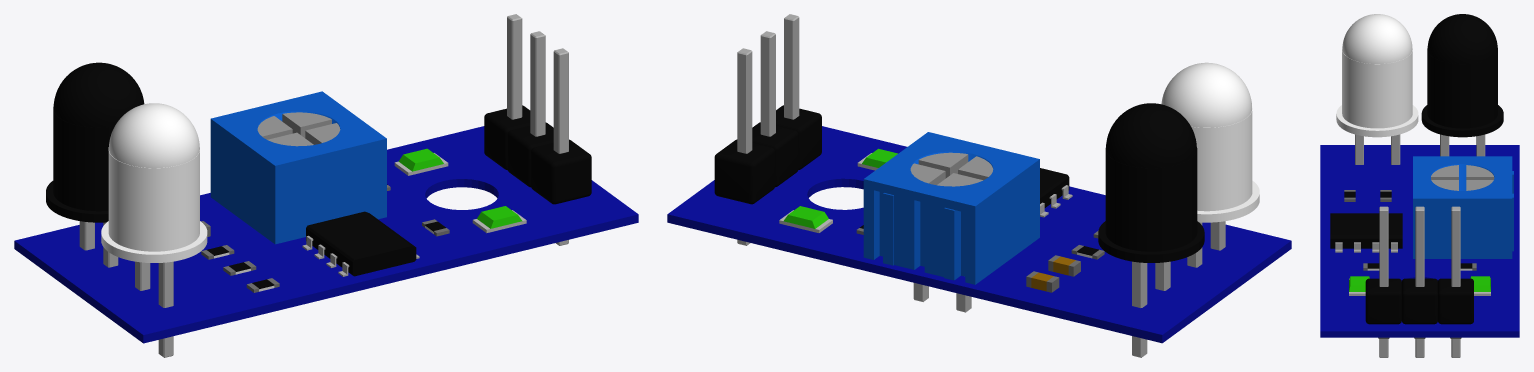
The model's file is ir-barrier-sensor.fbx.
The picture shows the model from 3 angles, left to right: view 1: azimuth 30°, elevation 25°; view 2: azimuth 150°, elevation 25°; view 3: azimuth 270°, elevation 25°; orthographic projection. The views are drawn at different scales.
Visible parts, largest first — view 1: PCB Board, Trimpot Base, LED Body.001, Plastic Wrapper, Pin, LED Body, LED Head.001, IC Base, LED Head, Wiper, LED Tail.001, Cube.002 (+4 smaller); view 2: PCB Board, Trimpot Base, LED Body, Plastic Wrapper, Pin, LED Body.001, LED Head, LED Head.001, Wiper, LED Tail, Cube.001, LED Tail.001 (+4 smaller); view 3: PCB Board, Trimpot Base, Plastic Wrapper, LED Body, LED Body.001, Pin, LED Head.001, LED Head, IC Base, Wiper, LED Tail.001, LED Tail (+5 smaller).
Part boxes in pixels (bbox=[...]): PCB Board: bbox=[14, 126, 638, 343]; Trimpot Base: bbox=[210, 91, 386, 244]; LED Body.001: bbox=[108, 147, 199, 251]; Plastic Wrapper: bbox=[484, 105, 591, 204]; Pin: bbox=[507, 14, 568, 245]; LED Body: bbox=[53, 107, 114, 211]; LED Head.001: bbox=[109, 103, 199, 168]; IC Base: bbox=[306, 211, 416, 276]; LED Head: bbox=[53, 62, 144, 127]; Wiper: bbox=[257, 112, 340, 146]; LED Tail.001: bbox=[101, 221, 207, 262]; Cube.002: bbox=[135, 261, 173, 357]; PCB Board: bbox=[667, 126, 1291, 343]; Trimpot Base: bbox=[863, 132, 1039, 284]; LED Body: bbox=[1105, 147, 1197, 251]; Plastic Wrapper: bbox=[714, 105, 821, 204]; Pin: bbox=[737, 14, 799, 245]; LED Body.001: bbox=[1191, 106, 1252, 211]; LED Head: bbox=[1106, 103, 1196, 168]; LED Head.001: bbox=[1161, 62, 1251, 127]; Wiper: bbox=[910, 152, 993, 186]; LED Tail: bbox=[1098, 221, 1204, 262]; Cube.001: bbox=[1132, 261, 1170, 357]; LED Tail.001: bbox=[1197, 180, 1259, 222]; PCB Board: bbox=[1320, 145, 1519, 337]; Trimpot Base: bbox=[1413, 156, 1513, 258]; Plastic Wrapper: bbox=[1365, 278, 1473, 324]; LED Body: bbox=[1427, 48, 1497, 128]; LED Body.001: bbox=[1342, 48, 1412, 128]; Pin: bbox=[1379, 206, 1460, 357]; LED Head.001: bbox=[1342, 14, 1412, 63]; LED Head: bbox=[1427, 14, 1497, 63]; IC Base: bbox=[1330, 213, 1402, 248]; Wiper: bbox=[1431, 165, 1494, 190]; LED Tail.001: bbox=[1336, 105, 1418, 137]; LED Tail: bbox=[1421, 105, 1503, 137].
Bounding box in the file's own units: 6200 × 2865 × 2800.
